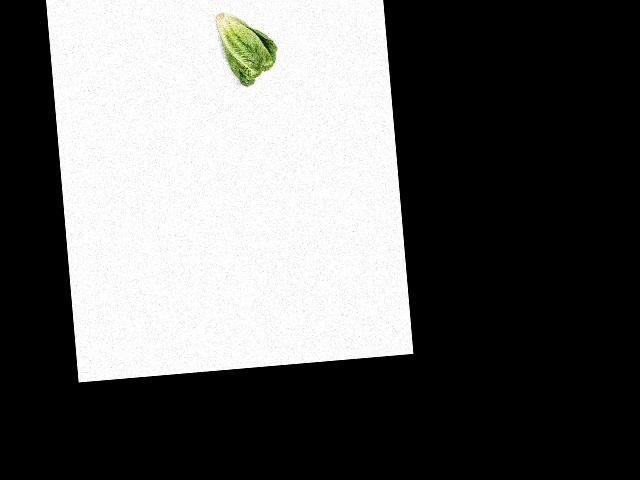lettuce: (212, 3, 279, 88)
